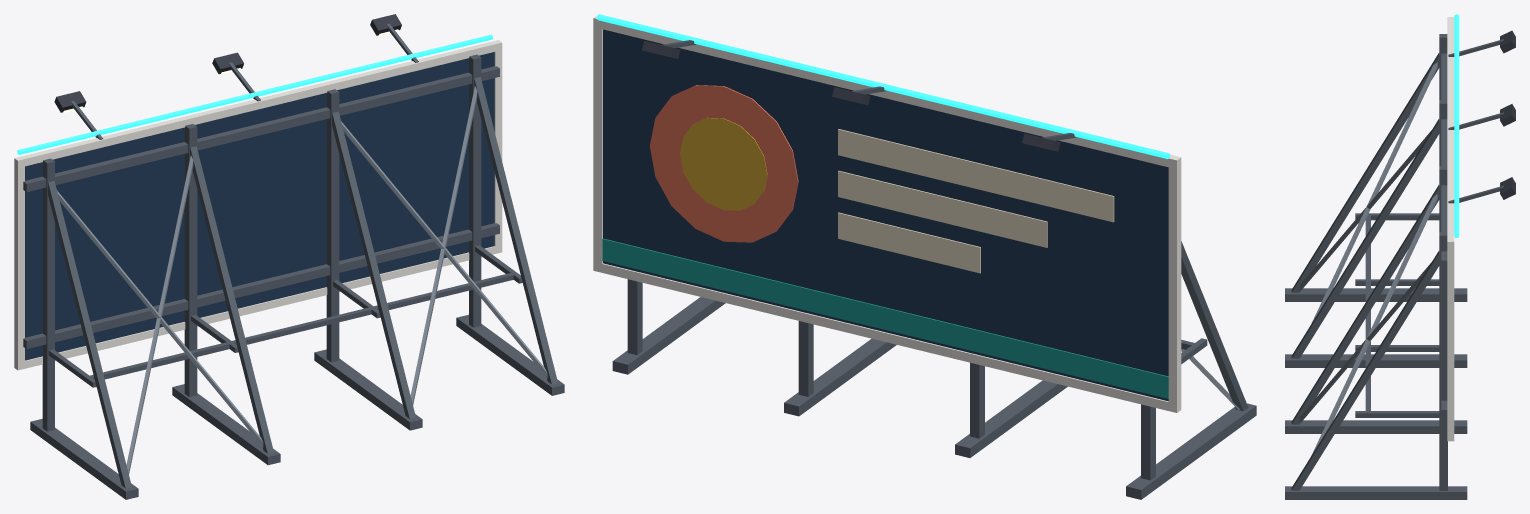
File: billboard_roof.glb
3 renders of one model, left to right at view 1: azimuth 30°, elevation 25°; view 2: azimuth 150°, elevation 25°; view 3: azimuth 270°, elevation 25°, orthographic. The views are drawn at different scales.
Visible parts, largest first — view 1: billboard_roof; view 2: billboard_roof; view 3: billboard_roof.
Part boxes in pixels (x1,y1,x2,y2): billboard_roof: (14,14,564,499); billboard_roof: (593,14,1256,499); billboard_roof: (1285,14,1515,499).
Bounding box in the file's own units: 6.14 × 3.68 × 2.66.
